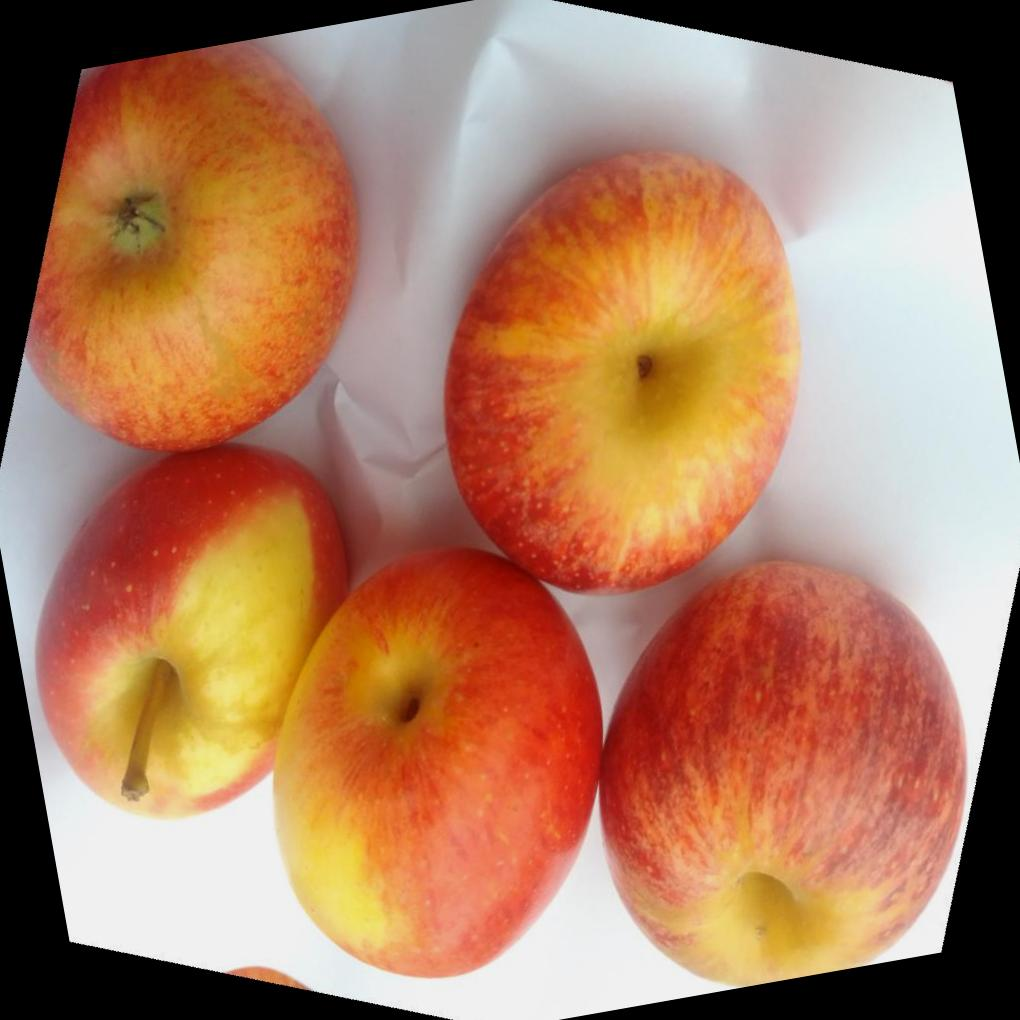FreshGuava: (23, 52, 970, 987)
